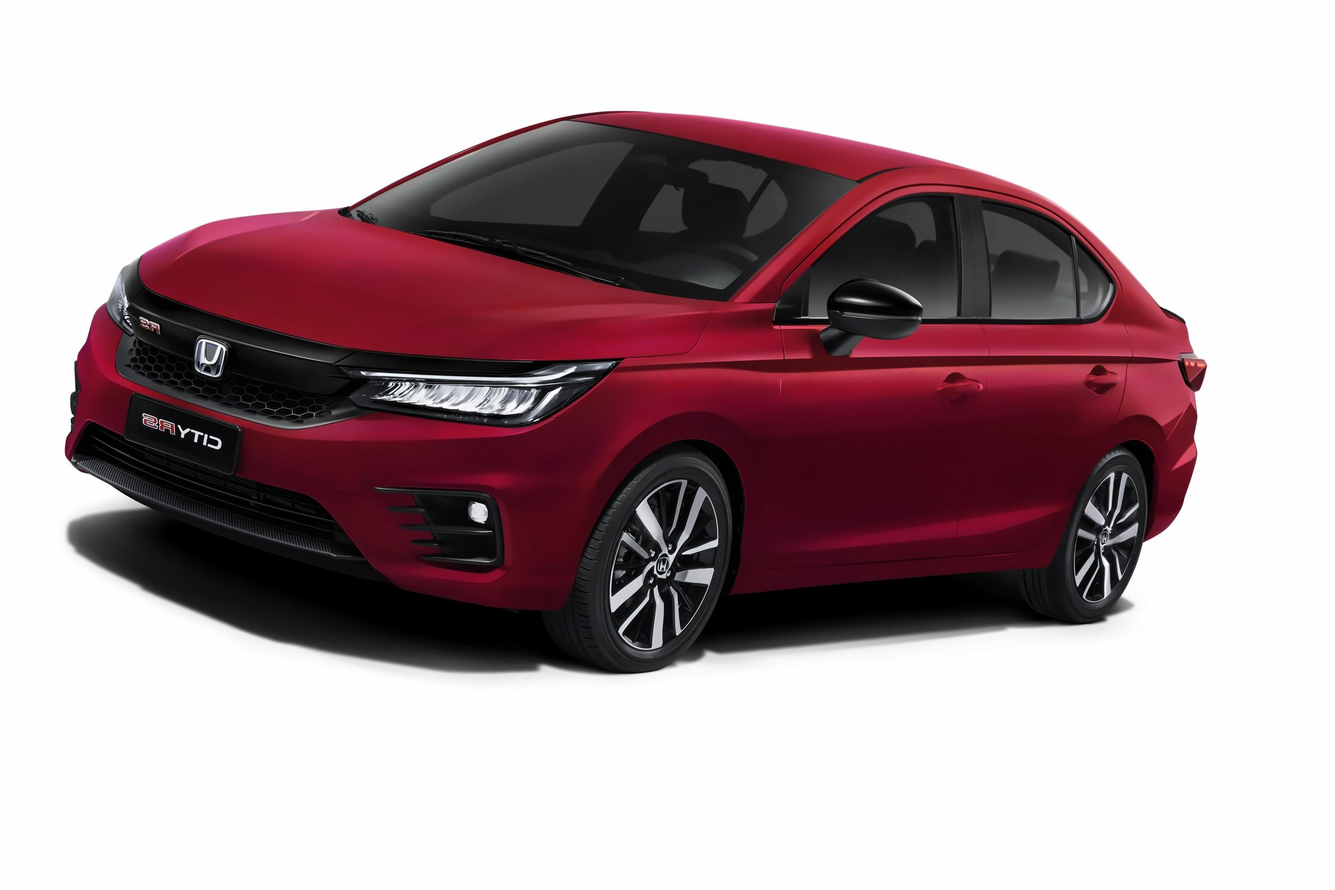Car hood: (135, 206, 723, 369)
Fender - -F-L-: (580, 295, 790, 611)
Fender - -R-L-: (1090, 263, 1191, 480)
Front bumper: (61, 317, 591, 629)
Headlight - -L-: (344, 353, 628, 430)
Headlight - -R-: (106, 260, 141, 333)
Passenger-s door - -F-L-: (760, 147, 992, 626)
Passenger-s door - -R-L-: (958, 144, 1142, 624)
Rear bumper: (1141, 386, 1208, 546)
Rear light - -L-: (1179, 353, 1208, 396)
Side bumper - -L-: (716, 516, 1068, 617)
Side mirror - -L-: (819, 279, 924, 363)
